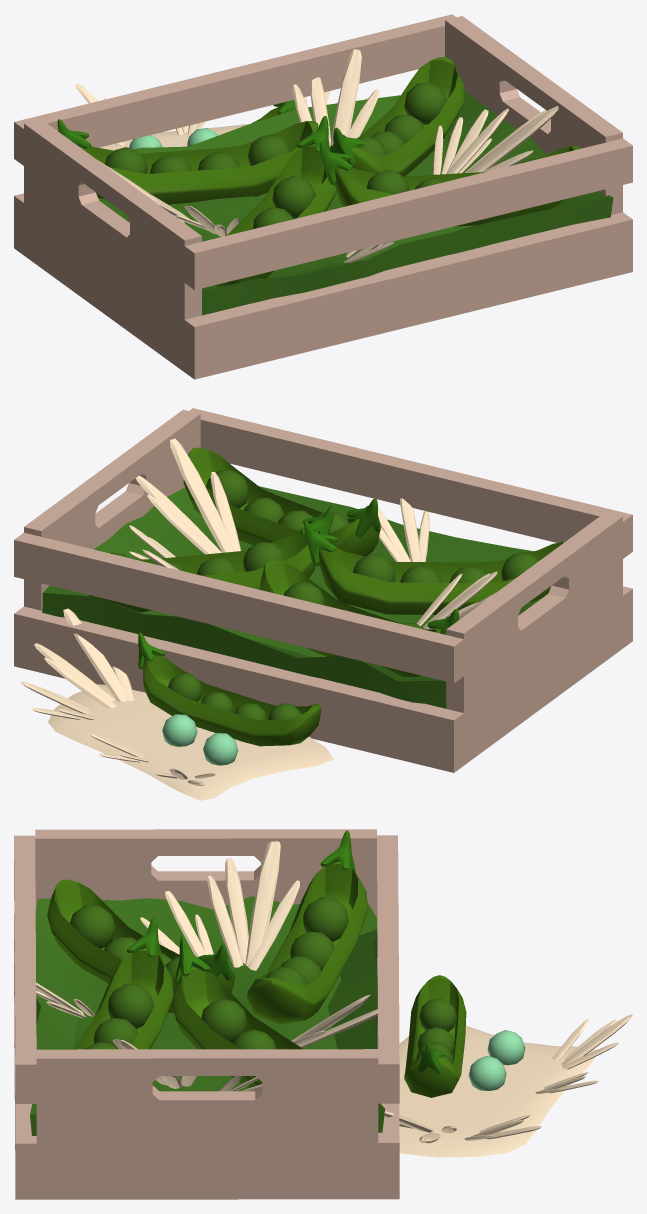
The model's file is PeasProvider.fbx.
The picture shows the model from 3 angles, top to bottom: view 1: azimuth 30°, elevation 25°; view 2: azimuth 150°, elevation 25°; view 3: azimuth 270°, elevation 25°; orthographic projection. The views are drawn at different scales.
Parts seen in each view (by area): view 1: Crate, StrawMain, Peas.001, Straw.001, Peas.004, Peas.003, Peas.002, StrawLeak, LeakedPeas; view 2: Crate, StrawMain, Straw.001, StrawLeak, Peas.003, Peas.006, Peas.002, Peas.004, Peas.001, LeakedPeas; view 3: Crate, StrawMain, Straw.001, StrawLeak, Peas.001, Peas.003, Peas.002, Peas.004, Peas.006, LeakedPeas.
Boxes of the visible parts, bbox=[...] form: Crate: bbox=[14, 14, 632, 379]; StrawMain: bbox=[98, 91, 613, 315]; Peas.001: bbox=[57, 119, 318, 204]; Straw.001: bbox=[75, 49, 558, 262]; Peas.004: bbox=[330, 57, 464, 176]; Peas.003: bbox=[214, 116, 336, 287]; Peas.002: bbox=[319, 141, 580, 226]; StrawLeak: bbox=[99, 123, 250, 150]; LeakedPeas: bbox=[129, 128, 217, 149]; Crate: bbox=[14, 408, 632, 772]; StrawMain: bbox=[42, 486, 540, 708]; Straw.001: bbox=[20, 438, 497, 785]; StrawLeak: bbox=[48, 684, 333, 800]; Peas.003: bbox=[304, 521, 564, 614]; Peas.006: bbox=[138, 632, 321, 746]; Peas.002: bbox=[183, 447, 380, 565]; Peas.004: bbox=[87, 505, 334, 612]; Peas.001: bbox=[260, 560, 459, 676]; LeakedPeas: bbox=[162, 714, 238, 765]; Crate: bbox=[14, 829, 399, 1199]; StrawMain: bbox=[30, 896, 384, 1135]; Straw.001: bbox=[36, 841, 632, 1143]; StrawLeak: bbox=[399, 1025, 595, 1157]; Peas.001: bbox=[246, 830, 367, 1024]; Peas.003: bbox=[47, 879, 235, 1013]; Peas.002: bbox=[74, 917, 173, 1049]; Peas.004: bbox=[172, 936, 303, 1091]; Peas.006: bbox=[404, 975, 466, 1097]; LeakedPeas: bbox=[468, 1030, 525, 1090].
Bounding box in the file's own units: 79.6 × 26.97 × 90.76.
